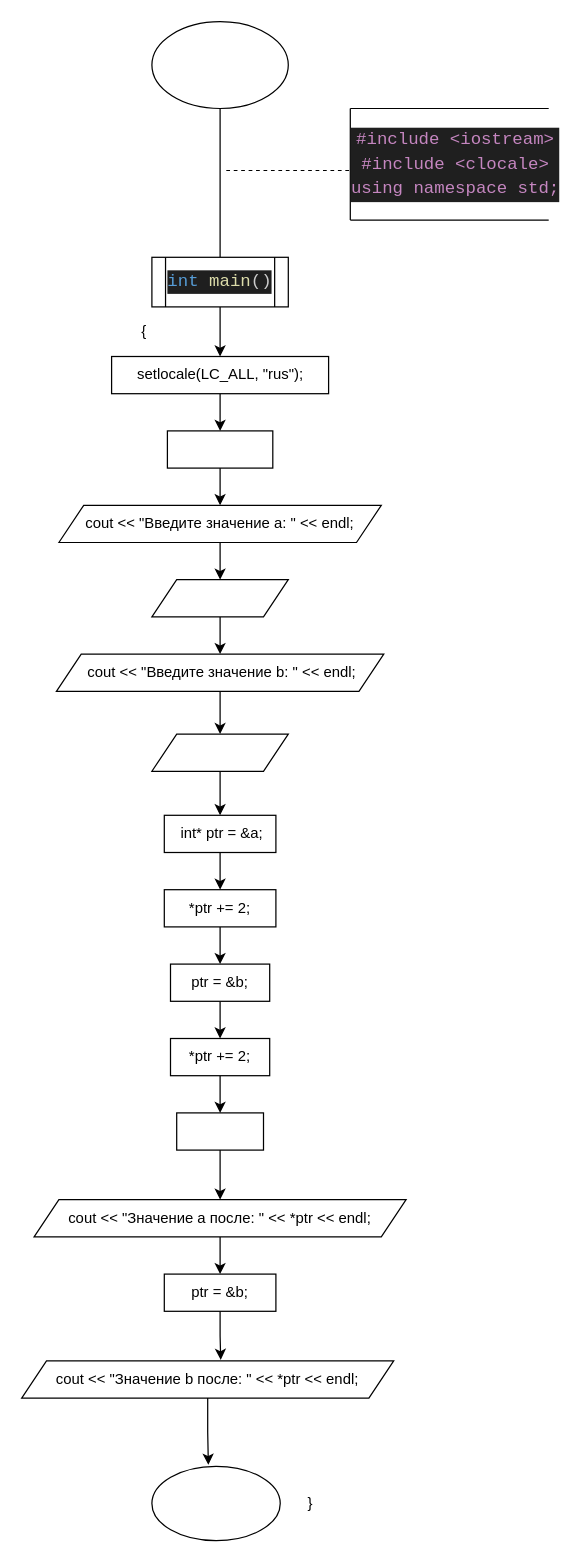
Image size: 583x1562. Some labels were removed from this diagram. Here are the shapes that lost their labels. From the top down, the box of each, then its label:
(151, 20, 288, 108): Начало
(166, 430, 273, 468): int a, b = 0;
(151, 578, 288, 617): cin >> a;
(151, 733, 288, 771): cin >> b;
(175, 1112, 264, 1150): ptr = &a;
(151, 1465, 280, 1541): return 0;
